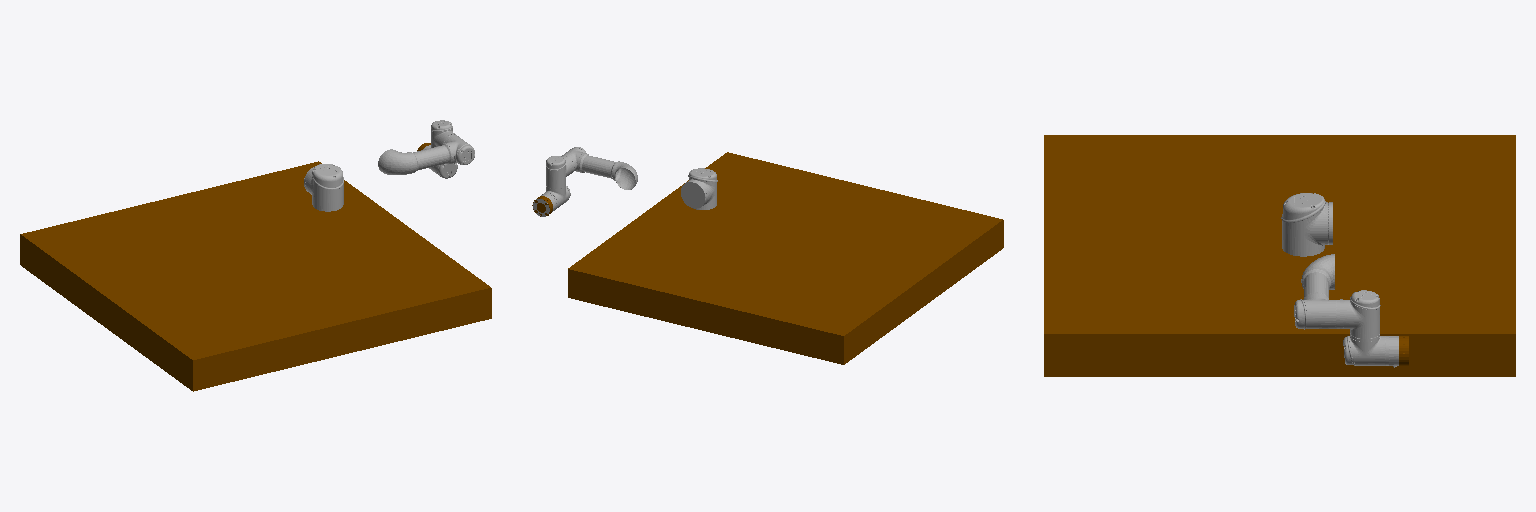
--- Render facts (derived) ---
3 views of the same robot in one strip: view 1: azimuth 30°, elevation 25°; view 2: azimuth 150°, elevation 25°; view 3: azimuth 270°, elevation 25° (orthographic).
Robot: ur_dlidar_robot_gazebo — 23 links, 22 joints (6 revolute, 16 fixed); root link world; default pose: all joints at 0.
Links seen in each view (by area): view 1: plane, forearm_link, shoulder_link; view 2: plane, forearm_link, shoulder_link, wrist_1_link; view 3: plane, shoulder_link, forearm_link, wrist_1_link, wrist_2_link.
Boxes of the visible links, x1=… form: plane: x1=20, y1=161, x2=491, y2=391; forearm_link: x1=378, y1=134, x2=474, y2=174; shoulder_link: x1=304, y1=164, x2=343, y2=211; plane: x1=568, y1=152, x2=1003, y2=364; forearm_link: x1=561, y1=147, x2=637, y2=189; shoulder_link: x1=681, y1=168, x2=717, y2=209; wrist_1_link: x1=546, y1=156, x2=572, y2=190; plane: x1=1044, y1=135, x2=1515, y2=376; shoulder_link: x1=1281, y1=193, x2=1332, y2=256; forearm_link: x1=1294, y1=254, x2=1339, y2=329; wrist_1_link: x1=1340, y1=290, x2=1380, y2=341; wrist_2_link: x1=1343, y1=336, x2=1388, y2=365.
Bounding box of the posed robot: 1.26 × 1 × 0.3099 m (x, y, z).
Meshes: 6 distinct files referenced, 5 mesh visuals loaded (5 OBJ); not drawn: 1 (reference not matched to a file when rendering), 1 (reference in a form the renderer does not follow; not among the files counted above).

robot.urdf — ur_dlidar_robot_gazebo:
<?xml version="1.0" ?>
<!-- =================================================================================== -->
<!-- |    This document was autogenerated by xacro from [local-path]/Codes/ROS/dlidar_ws/src/ur_dlidar/ur_dlidar_gazebo/urdf/ur_dlidar.xacro | -->
<!-- |    EDITING THIS FILE BY HAND IS NOT RECOMMENDED                                 | -->
<!-- =================================================================================== -->
<robot name="ur_dlidar_robot_gazebo">
  <!--
    This is a top-level xacro instantiating the Gazebo-specific version of the
    'ur_robot' macro (ie: 'ur_robot_gazebo') and passing it values for all its
    required arguments.

    This file should be considered the Gazebo-specific variant of the file
    with the same name in the ur_description package. It accepts the same
    arguments, but instead of configuring everything for a real robot, will
    generate a Gazebo-compatible URDF with a ros_control hardware_interface
    attached to it.

    Only use this top-level xacro if you plan on spawning the robot in Gazebo
    'by itself', without any gripper or any other geometry attached.

    If you need to attach an end-effector, camera or need to integrate the
    robot into a larger workcell and want to spawn that as a single entity in
    Gazebo, DO NOT EDIT THIS FILE.

    Instead: create a new top-level xacro, give it a proper name, include the
    required '.xacro' files, instantiate the models (ie: call the macros) and
    connect everything by adding the appropriate joints.
  -->
  <!--
    This is a top-level xacro instantiating the Gazebo-specific version of the
    'ur_robot' macro (ie: 'ur_robot_gazebo') and passing it values for all its
    required arguments.

    This file should be considered the Gazebo-specific variant of the file
    with the same name in the ur_description package. It accepts the same
    arguments, but instead of configuring everything for a real robot, will
    generate a Gazebo-compatible URDF with a ros_control hardware_interface
    attached to it.

    Only use this top-level xacro if you plan on spawning the robot in Gazebo
    'by itself', without any gripper or any other geometry attached.

    If you need to attach an end-effector, camera or need to integrate the
    robot into a larger workcell and want to spawn that as a single entity in
    Gazebo, DO NOT EDIT THIS FILE.

    Instead: create a new top-level xacro, give it a proper name, include the
    required '.xacro' files, instantiate the models (ie: call the macros) and
    connect everything by adding the appropriate joints.
  -->
  <!--
    Main xacro macro definition of the "Gazebo robot" model.

    This wraps the model of the real robot and adds all elements and parameters
    required by Gazebo.

    It also adds the gazebo_ros_control plugin.

    NOTE: this is NOT a URDF. It cannot directly be loaded by consumers
    expecting a flattened '.urdf' file. See the top-level '.xacro' for that
    (but note: that .xacro must still be processed by the xacro command).

    For use in '.launch' files: use one of the 'load_urX.launch' convenience
    launch files.

    NOTE: this Gazebo model makes use of the same set of parameter files as the
    main xacro macro (in ur_description). It is therefor possible to use the
    kinematic calibration exported from a REAL UR robot. Please refer to the
    ur_macro.xacro in ur_description for more information about this.

    Main author of the migration to yaml configs: Ludovic Delval.

    Contributors to previous versions (in no particular order):

     - Felix Messmer
     - Kelsey Hawkins
     - Shaun Edwards
     - Alexander Bubeck
     - Nadia Hammoudeh Garcia
     - G. vd. Hoorn
     - Dave Niewinski
     - Andy Zelenak
     - Miguel Prada
     - Mathias Luedtke
     - Hans-Joachim Krauch
     - Felix Exner
  -->
  <!--
    Base UR robot series xacro macro.

    NOTE: this is NOT a URDF. It cannot directly be loaded by consumers
    expecting a flattened '.urdf' file. See the top-level '.xacro' for that
    (but note: that .xacro must still be processed by the xacro command).

    For use in '.launch' files: use one of the 'load_urX.launch' convenience
    launch files.

    This file models the base kinematic chain of a UR robot, which then gets
    parameterised by various configuration files to convert it into a UR3(e),
    UR5(e), UR10(e) or UR16e.

    NOTE: the default kinematic parameters (ie: link lengths, frame locations,
    offets, etc) do not correspond to any particular robot. They are defaults
    only. There WILL be non-zero offsets between the Forward Kinematics results
    in TF (ie: robot_state_publisher) and the values reported by the Teach
    Pendant.

    For accurate (and robot-specific) transforms, the 'kinematics_parameters_file'
    parameter MUST point to a .yaml file containing the appropriate values for
    the targetted robot.

    If using the UniversalRobots/Universal_Robots_ROS_Driver, follow the steps
    described in the readme of that repository to extract the kinematic
    calibration from the controller and generate the required .yaml file.

    Main author of the migration to yaml configs: Ludovic Delval.

    Contributors to previous versions (in no particular order):

     - Felix Messmer
     - Kelsey Hawkins
     - Wim Meeussen
     - Shaun Edwards
     - Nadia Hammoudeh Garcia
     - Dave Hershberger
     - G. vd. Hoorn
     - Philip Long
     - Dave Coleman
     - Miguel Prada
     - Mathias Luedtke
     - Marcel Schnirring
     - Felix von Drigalski
     - Felix Exner
     - Jimmy Da Silva
     - Ajit Krisshna N L
     - Muhammad Asif Rana
  -->
  <!--
    NOTE: the macro defined in this file is NOT part of the public API of this
          package. Users CANNOT rely on this file being available, or stored in
          this location. Nor can they rely on the existence of the macro.
  -->
  <transmission name="shoulder_pan_trans">
    <type>transmission_interface/SimpleTransmission</type>
    <joint name="shoulder_pan_joint">
      <hardwareInterface>hardware_interface/PositionJointInterface</hardwareInterface>
    </joint>
    <actuator name="shoulder_pan_motor">
      <mechanicalReduction>1</mechanicalReduction>
    </actuator>
  </transmission>
  <transmission name="shoulder_lift_trans">
    <type>transmission_interface/SimpleTransmission</type>
    <joint name="shoulder_lift_joint">
      <hardwareInterface>hardware_interface/PositionJointInterface</hardwareInterface>
    </joint>
    <actuator name="shoulder_lift_motor">
      <mechanicalReduction>1</mechanicalReduction>
    </actuator>
  </transmission>
  <transmission name="elbow_trans">
    <type>transmission_interface/SimpleTransmission</type>
    <joint name="elbow_joint">
      <hardwareInterface>hardware_interface/PositionJointInterface</hardwareInterface>
    </joint>
    <actuator name="elbow_motor">
      <mechanicalReduction>1</mechanicalReduction>
    </actuator>
  </transmission>
  <transmission name="wrist_1_trans">
    <type>transmission_interface/SimpleTransmission</type>
    <joint name="wrist_1_joint">
      <hardwareInterface>hardware_interface/PositionJointInterface</hardwareInterface>
    </joint>
    <actuator name="wrist_1_motor">
      <mechanicalReduction>1</mechanicalReduction>
    </actuator>
  </transmission>
  <transmission name="wrist_2_trans">
    <type>transmission_interface/SimpleTransmission</type>
    <joint name="wrist_2_joint">
      <hardwareInterface>hardware_interface/PositionJointInterface</hardwareInterface>
    </joint>
    <actuator name="wrist_2_motor">
      <mechanicalReduction>1</mechanicalReduction>
    </actuator>
  </transmission>
  <transmission name="wrist_3_trans">
    <type>transmission_interface/SimpleTransmission</type>
    <joint name="wrist_3_joint">
      <hardwareInterface>hardware_interface/PositionJointInterface</hardwareInterface>
    </joint>
    <actuator name="wrist_3_motor">
      <mechanicalReduction>1</mechanicalReduction>
    </actuator>
  </transmission>
  <!-- links: main serial chain -->
  <link name="base_link"/>
  <link name="base_link_inertia">
    <visual>
      <origin rpy="0 0 3.141592653589793" xyz="0 0 0"/>
      <geometry>
        <mesh filename="/meshes/ur3e/visual/base.obj"/>
      </geometry>
      <material name="LightGrey">
        <color rgba="0.7 0.7 0.7 1.0"/>
      </material>
    </visual>
    <collision>
      <origin rpy="0 0 3.141592653589793" xyz="0 0 0"/>
      <geometry>
        <mesh filename="meshes/ur3e/collision/base.stl"/>
      </geometry>
    </collision>
    <inertial>
      <mass value="2.0"/>
      <origin rpy="0 0 0" xyz="0 0 0"/>
      <inertia ixx="0.0030531654454" ixy="0.0" ixz="0.0" iyy="0.0030531654454" iyz="0.0" izz="0.005625"/>
    </inertial>
  </link>
  <link name="shoulder_link">
    <visual>
      <origin rpy="0 0 3.141592653589793" xyz="0 0 0"/>
      <geometry>
        <mesh filename="meshes/ur3e/visual/shoulder.obj"/>
      </geometry>
      <material name="LightGrey">
        <color rgba="0.7 0.7 0.7 1.0"/>
      </material>
    </visual>
    <collision>
      <origin rpy="0 0 3.141592653589793" xyz="0 0 0"/>
      <geometry>
        <mesh filename="meshes/ur3e/collision/shoulder.stl"/>
      </geometry>
    </collision>
    <inertial>
      <mass value="2.0"/>
      <origin rpy="0 0 0" xyz="0 0 0"/>
      <inertia ixx="0.008093163429399999" ixy="0.0" ixz="0.0" iyy="0.008093163429399999" iyz="0.0" izz="0.005625"/>
    </inertial>
  </link>
  <link name="upper_arm_link">
    <visual>
      <origin rpy="1.5707963267948966 0 -1.5707963267948966" xyz="0 0 0.12"/>
      <geometry>
        <mesh filename="meshes/ur3e/visual/upperarm.obj"/>
      </geometry>
      <material name="LightGrey">
        <color rgba="0.7 0.7 0.7 1.0"/>
      </material>
    </visual>
    <collision>
      <origin rpy="1.5707963267948966 0 -1.5707963267948966" xyz="0 0 0.12"/>
      <geometry>
        <mesh filename="meshes/ur3e/collision/upperarm.stl"/>
      </geometry>
    </collision>
    <inertial>
      <mass value="3.42"/>
      <origin rpy="0 1.5707963267948966 0" xyz="-0.121825 0.0 0.12"/>
      <inertia ixx="0.021728483221103233" ixy="0.0" ixz="0.0" iyy="0.021728483221103233" iyz="0.0" izz="0.00961875"/>
    </inertial>
  </link>
  <link name="forearm_link">
    <visual>
      <origin rpy="1.5707963267948966 0 -1.5707963267948966" xyz="0 0 0.027"/>
      <geometry>
        <mesh filename="meshes/ur3e/visual/forearm.obj"/>
      </geometry>
      <material name="LightGrey">
        <color rgba="0.7 0.7 0.7 1.0"/>
      </material>
    </visual>
    <collision>
      <origin rpy="1.5707963267948966 0 -1.5707963267948966" xyz="0 0 0.027"/>
      <geometry>
        <mesh filename="meshes/ur3e/collision/forearm.stl"/>
      </geometry>
    </collision>
    <inertial>
      <mass value="1.26"/>
      <origin rpy="0 1.5707963267948966 0" xyz="-0.1066 0.0 0.027"/>
      <inertia ixx="0.0065445675821719194" ixy="0.0" ixz="0.0" iyy="0.0065445675821719194" iyz="0.0" izz="0.00354375"/>
    </inertial>
  </link>
  <link name="wrist_1_link">
    <visual>
      <!-- TODO: Move this to a parameter -->
      <origin rpy="1.5707963267948966 0 0" xyz="0 0 -0.104"/>
      <geometry>
        <mesh filename="meshes/ur3e/visual/wrist1.obj"/>
      </geometry>
      <material name="LightGrey">
        <color rgba="0.7 0.7 0.7 1.0"/>
      </material>
    </visual>
    <collision>
      <origin rpy="1.5707963267948966 0 0" xyz="0 0 -0.104"/>
      <geometry>
        <mesh filename="meshes/ur3e/collision/wrist1.stl"/>
      </geometry>
    </collision>
    <inertial>
      <mass value="0.8"/>
      <origin rpy="0 0 0" xyz="0 0 0"/>
      <inertia ixx="0.002084999166" ixy="0.0" ixz="0.0" iyy="0.002084999166" iyz="0.0" izz="0.00225"/>
    </inertial>
  </link>
  <link name="wrist_2_link">
    <visual>
      <origin rpy="0 0 0" xyz="0 0 -0.08535"/>
      <geometry>
        <mesh filename="meshes/ur3e/visual/wrist2.obj"/>
      </geometry>
      <material name="LightGrey">
        <color rgba="0.7 0.7 0.7 1.0"/>
      </material>
    </visual>
    <collision>
      <origin rpy="0 0 0" xyz="0 0 -0.08535"/>
      <geometry>
        <mesh filename="meshes/ur3e/collision/wrist2.stl"/>
      </geometry>
    </collision>
    <inertial>
      <mass value="0.8"/>
      <origin rpy="0 0 0" xyz="0 0 0"/>
      <inertia ixx="0.002084999166" ixy="0.0" ixz="0.0" iyy="0.002084999166" iyz="0.0" izz="0.00225"/>
    </inertial>
  </link>
  <link name="wrist_3_link">
    <visual>
      <origin rpy="1.5707963267948966 0 0" xyz="0 0 -0.0921"/>
      <geometry>
        <mesh filename="meshes/ur3e/visual/wrist3.obj"/>
      </geometry>
      <material name="LightGrey">
        <color rgba="0.7 0.7 0.7 1.0"/>
      </material>
    </visual>
    <collision>
      <origin rpy="1.5707963267948966 0 0" xyz="0 0 -0.0921"/>
      <geometry>
        <mesh filename="meshes/ur3e/collision/wrist3.stl"/>
      </geometry>
    </collision>
    <inertial>
      <mass value="0.35"/>
      <origin rpy="0 0 0" xyz="0.0 0.0 -0.02"/>
      <inertia ixx="0.00013626661215999998" ixy="0.0" ixz="0.0" iyy="0.00013626661215999998" iyz="0.0" izz="0.0001792"/>
    </inertial>
  </link>
  <!-- joints: main serial chain -->
  <joint name="base_link-base_link_inertia" type="fixed">
    <parent link="base_link"/>
    <child link="base_link_inertia"/>
    <!-- 'base_link' is REP-103 aligned (so X+ forward), while the internal
           frames of the robot/controller have X+ pointing backwards.
           Use the joint between 'base_link' and 'base_link_inertia' (a dummy
           link/frame) to introduce the necessary rotation over Z (of pi rad).
      -->
    <origin rpy="0 0 3.141592653589793" xyz="0 0 0"/>
  </joint>
  <joint name="shoulder_pan_joint" type="revolute">
    <parent link="base_link_inertia"/>
    <child link="shoulder_link"/>
    <origin rpy="0 0 0" xyz="0 0 0.15185"/>
    <axis xyz="0 0 1"/>
    <limit effort="56.0" lower="-6.283185307179586" upper="6.283185307179586" velocity="3.141592653589793"/>
    <dynamics damping="0" friction="0"/>
  </joint>
  <joint name="shoulder_lift_joint" type="revolute">
    <parent link="shoulder_link"/>
    <child link="upper_arm_link"/>
    <origin rpy="1.570796327 0 0" xyz="0 0 0"/>
    <axis xyz="0 0 1"/>
    <limit effort="56.0" lower="-6.283185307179586" upper="6.283185307179586" velocity="3.141592653589793"/>
    <dynamics damping="0" friction="0"/>
  </joint>
  <joint name="elbow_joint" type="revolute">
    <parent link="upper_arm_link"/>
    <child link="forearm_link"/>
    <origin rpy="0 0 0" xyz="-0.24355 0 0"/>
    <axis xyz="0 0 1"/>
    <limit effort="28.0" lower="-3.141592653589793" upper="3.141592653589793" velocity="3.141592653589793"/>
    <dynamics damping="0" friction="0"/>
  </joint>
  <joint name="wrist_1_joint" type="revolute">
    <parent link="forearm_link"/>
    <child link="wrist_1_link"/>
    <origin rpy="0 0 0" xyz="-0.2132 0 0.13105"/>
    <axis xyz="0 0 1"/>
    <limit effort="12.0" lower="-6.283185307179586" upper="6.283185307179586" velocity="6.283185307179586"/>
    <dynamics damping="0" friction="0"/>
  </joint>
  <joint name="wrist_2_joint" type="revolute">
    <parent link="wrist_1_link"/>
    <child link="wrist_2_link"/>
    <origin rpy="1.570796327 0 0" xyz="0 -0.08535 -1.750557762378351e-11"/>
    <axis xyz="0 0 1"/>
    <limit effort="12.0" lower="-6.283185307179586" upper="6.283185307179586" velocity="6.283185307179586"/>
    <dynamics damping="0" friction="0"/>
  </joint>
  <joint name="wrist_3_joint" type="revolute">
    <parent link="wrist_2_link"/>
    <child link="wrist_3_link"/>
    <origin rpy="1.570796326589793 3.141592653589793 3.141592653589793" xyz="0 0.0921 -1.8890025766262e-11"/>
    <axis xyz="0 0 1"/>
    <limit effort="12.0" lower="-6.283185307179586" upper="6.283185307179586" velocity="6.283185307179586"/>
    <dynamics damping="0" friction="0"/>
  </joint>
  <!-- ROS-Industrial 'base' frame: base_link to UR 'Base' Coordinates transform -->
  <link name="base"/>
  <joint name="base_link-base_fixed_joint" type="fixed">
    <!-- Note the rotation over Z of pi radians: as base_link is REP-103
           aligned (ie: has X+ forward, Y+ left and Z+ up), this is needed
           to correctly align 'base' with the 'Base' coordinate system of
           the UR controller.
      -->
    <origin rpy="0 0 3.141592653589793" xyz="0 0 0"/>
    <parent link="base_link"/>
    <child link="base"/>
  </joint>
  <!-- ROS-Industrial 'flange' frame: attachment point for EEF models -->
  <link name="flange"/>
  <joint name="wrist_3-flange" type="fixed">
    <parent link="wrist_3_link"/>
    <child link="flange"/>
    <origin rpy="0 -1.5707963267948966 -1.5707963267948966" xyz="0 0 0"/>
  </joint>
  <!-- ROS-Industrial 'tool0' frame: all-zeros tool frame -->
  <link name="tool0"/>
  <joint name="flange-tool0" type="fixed">
    <!-- default toolframe: X+ left, Y+ up, Z+ front -->
    <origin rpy="1.5707963267948966 0 1.5707963267948966" xyz="0 0 0"/>
    <parent link="flange"/>
    <child link="tool0"/>
  </joint>
  <!-- Configure self collision properties per link -->
  <gazebo reference="shoulder_link">
    <selfCollide>true</selfCollide>
  </gazebo>
  <gazebo reference="upper_arm_link">
    <selfCollide>true</selfCollide>
  </gazebo>
  <gazebo reference="forearm_link">
    <selfCollide>true</selfCollide>
  </gazebo>
  <gazebo reference="wrist_1_link">
    <selfCollide>true</selfCollide>
  </gazebo>
  <gazebo reference="wrist_3_link">
    <selfCollide>true</selfCollide>
  </gazebo>
  <gazebo reference="wrist_2_link">
    <selfCollide>true</selfCollide>
  </gazebo>
  <gazebo reference="ee_link">
    <selfCollide>true</selfCollide>
  </gazebo>
  <!--
      Inject Gazebo ROS Control plugin, which allows us to use ros_control
      controllers to control the virtual robot hw.
    -->
  <gazebo>
    <plugin filename="libgazebo_ros_control.so" name="ros_control">
      <!--robotNamespace>/</robotNamespace-->
      <!--robotSimType>gazebo_ros_control/DefaultRobotHWSim</robotSimType-->
    </plugin>
  </gazebo>
  <link name="plane">
    <!-- Visual -->
    <visual>
      <geometry>
        <box size="1 1 0.1"/>
      </geometry>
      <origin rpy="0 0 0.0" xyz="0 0.0 0"/>
      <material name="yellow">
        <color rgba="0.5 0.3 0.0 1"/>
      </material>
    </visual>
    <!-- Collision -->
    <collision>
      <geometry>
        <box size="1 1 0.1"/>
      </geometry>
      <origin rpy="0 0 0.0" xyz="0 0.0 0"/>
    </collision>
    <!-- Interial -->
    <inertial>
      <origin xyz="0 0 0"/>
      <mass value="6"/>
      <inertia ixx="1" ixy="0" ixz="0" iyy="1" iyz="0" izz="1"/>
    </inertial>
  </link>
  <!-- Sensor Joint -->
  <joint name="plan_joints" type="fixed">
    <parent link="world"/>
    <child link="plane"/>
    <origin rpy="0 0 0" xyz="0 0 0"/>
  </joint>
  <!--
    Attach the Gazebo model to Gazebo's world frame.

    Note: if you're looking to integrate a UR into a larger scene and need
    to add EEFs or other parts, DO NOT change this file or the 'world' link
    here. Create a NEW xacro instead and decide whether you need to add
    a 'world' link there.
  -->
  <link name="world"/>
  <joint name="world_joint" type="fixed">
    <parent link="plane"/>
    <child link="base_link"/>
    <origin rpy="0 0 0" xyz="0.27 0.05 0.05"/>
  </joint>
  <!-- World link -->
  <link name="dlidar_base"/>
  <joint name="base_joint" type="fixed">
    <parent link="dlidar_base"/>
    <child link="dlidar_base_inertia"/>
  </joint>
  <!-- Base link with inertia-->
  <link name="dlidar_base_inertia">
    <!-- Visual -->
    <visual>
      <geometry>
        <cylinder length="0.02" radius="0.031783"/>
      </geometry>
      <origin rpy="0.0 0.0 0.0" xyz="0.0 0.0 0.0"/>
      <material name="black">
        <color rgba="0.5 0.3 0.0 1"/>
      </material>
    </visual>
    <!-- Collision -->
    <collision>
      <geometry>
        <cylinder length="0.02" radius="0.031783"/>
      </geometry>
    </collision>
    <!-- Interial -->
    <inertial>
      <origin xyz="0 0 0"/>
      <mass value="0.001"/>
      <inertia ixx="1" ixy="0" ixz="0" iyy="1" iyz="0" izz="1"/>
    </inertial>
  </link>
  <!-- Sensor link -->
  <link name="dlidar0">
    <!-- Visual -->
    <visual>
      <geometry>
        <box size="0.001 0.002 0.004"/>
      </geometry>
      <origin rpy="0 0 0.0" xyz="0 0 0"/>
      <material name="yellow">
        <color rgba="0.5 0.3 0.0 1"/>
      </material>
    </visual>
    <!-- Collision -->
    <collision>
      <geometry>
        <box size="0.001 0.002 0.004"/>
      </geometry>
      <origin rpy="0 0 0.0" xyz="0 0 0"/>
    </collision>
    <!-- Interial -->
    <inertial>
      <origin xyz="0 0 0"/>
      <mass value="0.001"/>
      <inertia ixx="1" ixy="0" ixz="0" iyy="1" iyz="0" izz="1"/>
    </inertial>
  </link>
  <!-- Sensor Joint -->
  <joint name="dlidar0_joints" type="fixed">
    <parent link="dlidar_base_inertia"/>
    <child link="dlidar0"/>
    <origin rpy="0 0 0.0" xyz="0.031783 0.0 0"/>
  </joint>
  <!-- Make sure not be merged -->
  <gazebo reference="dlidar0_joints">
    <preserveFixedJoint>true</preserveFixedJoint>
  </gazebo>
  <!-- Sensor plugin -->
  <gazebo reference="dlidar0">
    <sensor name="dlidar0_ray" type="ray">
      <pose>0 0 0 0 0 0</pose>
      <visualize>true</visualize>
      <!-- 是否可视化射线 -->
      <update_rate>10</update_rate>
      <!-- 测距频率 -->
      <ray>
        <scan>
          <horizontal>
            <!-- 水平方向 -->
            <samples>10</samples>
            <resolution>1</resolution>
            <min_angle>-0.2625</min_angle>
            <!-- 角度范围最小值 -15度 -->
            <max_angle>0.2625</max_angle>
            <!-- 角度范围最大值 15度 -->
          </horizontal>
          <vertical>
            <!-- 垂直方向 参数同上-->
            <samples>10</samples>
            <resolution>1</resolution>
            <min_angle>-0.2625</min_angle>
            <max_angle>0.2625</max_angle>
          </vertical>
        </scan>
        <range>
          <min>0.02</min>
          <!-- 最小测距范围-->
          <max>1.0</max>
          <!-- 最大测距范围-->
          <resolution>0.02</resolution>
        </range>
      </ray>
      <plugin filename="libgazebo_ros_range.so" name="gazebo_ros_range0">
        <gaussianNoise>0.001</gaussianNoise>
        <!-- 添加传感器噪声 -->
        <alwaysOn>true</alwaysOn>
        <updateRate>10</updateRate>
        <topicName>dlidar_data</topicName>
        <!-- 发布数据的 Topic 名称 -->
        <frameName>dlidar0</frameName>
        <!-- 对应的frame 名字 -->
        <radiation>ultrasound</radiation>
        <fov>0.5</fov>
      </plugin>
    </sensor>
  </gazebo>
  <!-- Sensor link -->
  <link name="dlidar1">
    <!-- Visual -->
    <visual>
      <geometry>
        <box size="0.001 0.002 0.004"/>
      </geometry>
      <origin rpy="0 0 0.6300000000000001" xyz="0 0 0"/>
      <material name="yellow">
        <color rgba="0.5 0.3 0.0 1"/>
      </material>
    </visual>
    <!-- Collision -->
    <collision>
      <geometry>
        <box size="0.001 0.002 0.004"/>
      </geometry>
      <origin rpy="0 0 0.6300000000000001" xyz="0 0 0"/>
    </collision>
    <!-- Interial -->
    <inertial>
      <origin xyz="0 0 0"/>
      <mass value="0.001"/>
      <inertia ixx="1" ixy="0" ixz="0" iyy="1" iyz="0" izz="1"/>
    </inertial>
  </link>
  <!-- Sensor Joint -->
  <joint name="dlidar1_joints" type="fixed">
    <parent link="dlidar_base_inertia"/>
    <child link="dlidar1"/>
    <origin rpy="0 0 0.6300000000000001" xyz="0.025681538296685118 0.018724787841679153 0"/>
  </joint>
  <!-- Make sure not be merged -->
  <gazebo reference="dlidar1_joints">
    <preserveFixedJoint>true</preserveFixedJoint>
  </gazebo>
  <!-- Sensor plugin -->
  <gazebo reference="dlidar1">
    <sensor name="dlidar1_ray" type="ray">
      <pose>0 0 0 0 0 0</pose>
      <visualize>true</visualize>
      <!-- 是否可视化射线 -->
      <update_rate>10</update_rate>
      <!-- 测距频率 -->
      <ray>
        <scan>
          <horizontal>
            <!-- 水平方向 -->
            <samples>10</samples>
            <resolution>1</resolution>
            <min_angle>-0.2625</min_angle>
            <!-- 角度范围最小值 -15度 -->
            <max_angle>0.2625</max_angle>
            <!-- 角度范围最大值 15度 -->
          </horizontal>
          <vertical>
            <!-- 垂直方向 参数同上-->
            <samples>10</samples>
            <resolution>1</resolution>
            <min_angle>-0.2625</min_angle>
            <max_angle>0.2625</max_angle>
          </vertical>
        </scan>
        <range>
          <min>0.02</min>
          <!-- 最小测距范围-->
          <max>1.0</max>
          <!-- 最大测距范围-->
          <resolution>0.02</resolution>
        </range>
      </ray>
      <plugin filename="libgazebo_ros_range.so" name="gazebo_ros_range1">
        <gaussianNoise>0.001</gaussianNoise>
        <!-- 添加传感器噪声 -->
        <alwaysOn>true</alwaysOn>
        <updateRate>10</updateRate>
        <topicName>dlidar_data</topicName>
        <!-- 发布数据的 Topic 名称 -->
        <frameName>dlidar1</frameName>
        <!-- 对应的frame 名字 -->
        <radiation>ultrasound</radiation>
        <fov>0.5</fov>
      </plugin>
    </sensor>
  </gazebo>
  <!-- Sensor link -->
  <link name="dlidar2">
    <!-- Visual -->
    <visual>
      <geometry>
        <box size="0.001 0.002 0.004"/>
      </geometry>
      <origin rpy="0 0 1.2600000000000002" xyz="0 0 0"/>
      <material name="yellow">
        <color rgba="0.5 0.3 0.0 1"/>
      </material>
    </visual>
    <!-- Collision -->
    <collision>
      <geometry>
        <box size="0.001 0.002 0.004"/>
      </geometry>
      <origin rpy="0 0 1.2600000000000002" xyz="0 0 0"/>
    </collision>
    <!-- Interial -->
    <inertial>
      <origin xyz="0 0 0"/>
      <mass value="0.001"/>
      <inertia ixx="1" ixy="0" ixz="0" iyy="1" iyz="0" izz="1"/>
    </inertial>
  </link>
  <!-- Sensor Joint -->
  <joint name="dlidar2_joints" type="fixed">
    <parent link="dlidar_base_inertia"/>
    <child link="dlidar2"/>
    <origin rpy="0 0 1.2600000000000002" xyz="0.009719778798987163 0.030260287326771364 0"/>
  </joint>
  <!-- Make sure not be merged -->
  <gazebo reference="dlidar2_joints">
    <preserveFixedJoint>true</preserveFixedJoint>
  </gazebo>
  <!-- Sensor plugin -->
  <gazebo reference="dlidar2">
    <sensor name="dlidar2_ray" type="ray">
      <pose>0 0 0 0 0 0</pose>
      <visualize>true</visualize>
      <!-- 是否可视化射线 -->
      <update_rate>10</update_rate>
      <!-- 测距频率 -->
      <ray>
        <scan>
          <horizontal>
            <!-- 水平方向 -->
            <samples>10</samples>
            <resolution>1</resolution>
            <min_angle>-0.2625</min_angle>
            <!-- 角度范围最小值 -15度 -->
            <max_angle>0.2625</max_angle>
            <!-- 角度范围最大值 15度 -->
          </horizontal>
          <vertical>
            <!-- 垂直方向 参数同上-->
            <samples>10</samples>
            <resolution>1</resolution>
            <min_angle>-0.2625</min_angle>
            <max_angle>0.2625</max_angle>
          </vertical>
        </scan>
        <range>
          <min>0.02</min>
          <!-- 最小测距范围-->
          <max>1.0</max>
          <!-- 最大测距范围-->
          <resolution>0.02</resolution>
        </range>
      </ray>
      <plugin filename="libgazebo_ros_range.so" name="gazebo_ros_range2">
        <gaussianNoise>0.001</gaussianNoise>
        <!-- 添加传感器噪声 -->
        <alwaysOn>true</alwaysOn>
        <updateRate>10</updateRate>
        <topicName>dlidar_data</topicName>
        <!-- 发布数据的 Topic 名称 -->
        <frameName>dlidar2</frameName>
        <!-- 对应的frame 名字 -->
        <radiation>ultrasound</radiation>
        <fov>0.5</fov>
      </plugin>
    </sensor>
  </gazebo>
  <!-- Sensor link -->
  <link name="dlidar3">
    <!-- Visual -->
    <visual>
      <geometry>
        <box size="0.001 0.002 0.004"/>
      </geometry>
      <origin rpy="0 0 1.8900000000000003" xyz="0 0 0"/>
      <material name="yellow">
        <color rgba="0.5 0.3 0.0 1"/>
      </material>
    </visual>
    <!-- Collision -->
    <collision>
      <geometry>
        <box size="0.001 0.002 0.004"/>
      </geometry>
      <origin rpy="0 0 1.8900000000000003" xyz="0 0 0"/>
    </collision>
    <!-- Interial -->
    <inertial>
      <origin xyz="0 0 0"/>
      <mass value="0.001"/>
      <inertia ixx="1" ixy="0" ixz="0" iyy="1" iyz="0" izz="1"/>
    </inertial>
  </link>
  <!-- Sensor Joint -->
  <joint name="dlidar3_joints" type="fixed">
    <parent link="dlidar_base_inertia"/>
    <child link="dlidar3"/>
    <origin rpy="0 0 1.8900000000000003" xyz="-0.009973841008103368 0.030177501297242545 0"/>
  </joint>
  <!-- Make sure not be merged -->
  <gazebo reference="dlidar3_joints">
    <preserveFixedJoint>true</preserveFixedJoint>
  </gazebo>
  <!-- Sensor plugin -->
  <gazebo reference="dlidar3">
    <sensor name="dlidar3_ray" type="ray">
      <pose>0 0 0 0 0 0</pose>
      <visualize>true</visualize>
      <!-- 是否可视化射线 -->
      <update_rate>10</update_rate>
      <!-- 测距频率 -->
      <ray>
        <scan>
          <horizontal>
            <!-- 水平方向 -->
            <samples>10</samples>
            <resolution>1</resolution>
            <min_angle>-0.2625</min_angle>
            <!-- 角度范围最小值 -15度 -->
            <max_angle>0.2625</max_angle>
            <!-- 角度范围最大值 15度 -->
          </horizontal>
          <vertical>
            <!-- 垂直方向 参数同上-->
            <samples>10</samples>
            <resolution>1</resolution>
            <min_angle>-0.2625</min_angle>
            <max_angle>0.2625</max_angle>
          </vertical>
        </scan>
        <range>
          <min>0.02</min>
          <!-- 最小测距范围-->
          <max>1.0</max>
          <!-- 最大测距范围-->
          <resolution>0.02</resolution>
        </range>
      </ray>
      <plugin filename="libgazebo_ros_range.so" name="gazebo_ros_range3">
        <gaussianNoise>0.001</gaussianNoise>
        <!-- 添加传感器噪声 -->
        <alwaysOn>true</alwaysOn>
        <updateRate>10</updateRate>
        <topicName>dlidar_data</topicName>
        <!-- 发布数据的 Topic 名称 -->
        <frameName>dlidar3</frameName>
        <!-- 对应的frame 名字 -->
        <radiation>ultrasound</radiation>
        <fov>0.5</fov>
      </plugin>
    </sensor>
  </gazebo>
  <!-- Sensor link -->
  <link name="dlidar4">
    <!-- Visual -->
    <visual>
      <geometry>
        <box size="0.001 0.002 0.004"/>
      </geometry>
      <origin rpy="0 0 2.5200000000000005" xyz="0 0 0"/>
      <material name="yellow">
        <color rgba="0.5 0.3 0.0 1"/>
      </material>
    </visual>
    <!-- Collision -->
    <collision>
      <geometry>
        <box size="0.001 0.002 0.004"/>
      </geometry>
      <origin rpy="0 0 2.5200000000000005" xyz="0 0 0"/>
    </collision>
    <!-- Interial -->
    <inertial>
      <origin xyz="0 0 0"/>
      <mass value="0.001"/>
      <inertia ixx="1" ixy="0" ixz="0" iyy="1" iyz="0" izz="1"/>
    </inertial>
  </link>
  <!-- Sensor Joint -->
  <joint name="dlidar4_joints" type="fixed">
    <parent link="dlidar_base_inertia"/>
    <child link="dlidar4"/>
    <origin rpy="0 0 2.5200000000000005" xyz="-0.02583805459514581 0.018508215033823883 0"/>
  </joint>
  <!-- Make sure not be merged -->
  <gazebo reference="dlidar4_joints">
    <preserveFixedJoint>true</preserveFixedJoint>
  </gazebo>
  <!-- Sensor plugin -->
  <gazebo reference="dlidar4">
    <sensor name="dlidar4_ray" type="ray">
      <pose>0 0 0 0 0 0</pose>
      <visualize>true</visualize>
      <!-- 是否可视化射线 -->
      <update_rate>10</update_rate>
      <!-- 测距频率 -->
      <ray>
        <scan>
          <horizontal>
            <!-- 水平方向 -->
            <samples>10</samples>
            <resolution>1</resolution>
            <min_angle>-0.2625</min_angle>
            <!-- 角度范围最小值 -15度 -->
            <max_angle>0.2625</max_angle>
            <!-- 角度范围最大值 15度 -->
          </horizontal>
          <vertical>
            <!-- 垂直方向 参数同上-->
            <samples>10</samples>
            <resolution>1</resolution>
            <min_angle>-0.2625</min_angle>
            <max_angle>0.2625</max_angle>
          </vertical>
        </scan>
        <range>
          <min>0.02</min>
          <!-- 最小测距范围-->
          <max>1.0</max>
          <!-- 最大测距范围-->
          <resolution>0.02</resolution>
        </range>
      </ray>
      <plugin filename="libgazebo_ros_range.so" name="gazebo_ros_range4">
        <gaussianNoise>0.001</gaussianNoise>
        <!-- 添加传感器噪声 -->
        <alwaysOn>true</alwaysOn>
        <updateRate>10</updateRate>
        <topicName>dlidar_data</topicName>
        <!-- 发布数据的 Topic 名称 -->
        <frameName>dlidar4</frameName>
        <!-- 对应的frame 名字 -->
        <radiation>ultrasound</radiation>
        <fov>0.5</fov>
      </plugin>
    </sensor>
  </gazebo>
  <!-- Sensor link -->
  <link name="dlidar5">
    <!-- Visual -->
    <visual>
      <geometry>
        <box size="0.001 0.002 0.004"/>
      </geometry>
      <origin rpy="0 0 3.1500000000000004" xyz="0 0 0"/>
      <material name="yellow">
        <color rgba="0.5 0.3 0.0 1"/>
      </material>
    </visual>
    <!-- Collision -->
    <collision>
      <geometry>
        <box size="0.001 0.002 0.004"/>
      </geometry>
      <origin rpy="0 0 3.1500000000000004" xyz="0 0 0"/>
    </collision>
    <!-- Interial -->
    <inertial>
      <origin xyz="0 0 0"/>
      <mass value="0.001"/>
      <inertia ixx="1" ixy="0" ixz="0" iyy="1" iyz="0" izz="1"/>
    </inertial>
  </link>
  <!-- Sensor Joint -->
  <joint name="dlidar5_joints" type="fixed">
    <parent link="dlidar_base_inertia"/>
    <child link="dlidar5"/>
    <origin rpy="0 0 3.1500000000000004" xyz="-0.03178187674019466 -0.00026720754307009865 0"/>
  </joint>
  <!-- Make sure not be merged -->
  <gazebo reference="dlidar5_joints">
    <preserveFixedJoint>true</preserveFixedJoint>
  </gazebo>
  <!-- Sensor plugin -->
  <gazebo reference="dlidar5">
    <sensor name="dlidar5_ray" type="ray">
      <pose>0 0 0 0 0 0</pose>
      <visualize>true</visualize>
      <!-- 是否可视化射线 -->
      <update_rate>10</update_rate>
      <!-- 测距频率 -->
      <ray>
        <scan>
          <horizontal>
            <!-- 水平方向 -->
            <samples>10</samples>
            <resolution>1</resolution>
            <min_angle>-0.2625</min_angle>
            <!-- 角度范围最小值 -15度 -->
            <max_angle>0.2625</max_angle>
            <!-- 角度范围最大值 15度 -->
          </horizontal>
          <vertical>
            <!-- 垂直方向 参数同上-->
            <samples>10</samples>
            <resolution>1</resolution>
            <min_angle>-0.2625</min_angle>
            <max_angle>0.2625</max_angle>
          </vertical>
        </scan>
        <range>
          <min>0.02</min>
          <!-- 最小测距范围-->
          <max>1.0</max>
          <!-- 最大测距范围-->
          <resolution>0.02</resolution>
        </range>
      </ray>
      <plugin filename="libgazebo_ros_range.so" name="gazebo_ros_range5">
        <gaussianNoise>0.001</gaussianNoise>
        <!-- 添加传感器噪声 -->
        <alwaysOn>true</alwaysOn>
        <updateRate>10</updateRate>
        <topicName>dlidar_data</topicName>
        <!-- 发布数据的 Topic 名称 -->
        <frameName>dlidar5</frameName>
        <!-- 对应的frame 名字 -->
        <radiation>ultrasound</radiation>
        <fov>0.5</fov>
      </plugin>
    </sensor>
  </gazebo>
  <!-- Sensor link -->
  <link name="dlidar6">
    <!-- Visual -->
    <visual>
      <geometry>
        <box size="0.001 0.002 0.004"/>
      </geometry>
      <origin rpy="0 0 3.7800000000000007" xyz="0 0 0"/>
      <material name="yellow">
        <color rgba="0.5 0.3 0.0 1"/>
      </material>
    </visual>
    <!-- Collision -->
    <collision>
      <geometry>
        <box size="0.001 0.002 0.004"/>
      </geometry>
      <origin rpy="0 0 3.7800000000000007" xyz="0 0 0"/>
    </collision>
    <!-- Interial -->
    <inertial>
      <origin xyz="0 0 0"/>
      <mass value="0.001"/>
      <inertia ixx="1" ixy="0" ixz="0" iyy="1" iyz="0" izz="1"/>
    </inertial>
  </link>
  <!-- Sensor Joint -->
  <joint name="dlidar6_joints" type="fixed">
    <parent link="dlidar_base_inertia"/>
    <child link="dlidar6"/>
    <origin rpy="0 0 3.7800000000000007" xyz="-0.025523206748581037 -0.01894003712428218 0"/>
  </joint>
  <!-- Make sure not be merged -->
  <gazebo reference="dlidar6_joints">
    <preserveFixedJoint>true</preserveFixedJoint>
  </gazebo>
  <!-- Sensor plugin -->
  <gazebo reference="dlidar6">
    <sensor name="dlidar6_ray" type="ray">
      <pose>0 0 0 0 0 0</pose>
      <visualize>true</visualize>
      <!-- 是否可视化射线 -->
      <update_rate>10</update_rate>
      <!-- 测距频率 -->
      <ray>
        <scan>
          <horizontal>
            <!-- 水平方向 -->
            <samples>10</samples>
            <resolution>1</resolution>
            <min_angle>-0.2625</min_angle>
            <!-- 角度范围最小值 -15度 -->
            <max_angle>0.2625</max_angle>
            <!-- 角度范围最大值 15度 -->
          </horizontal>
          <vertical>
            <!-- 垂直方向 参数同上-->
            <samples>10</samples>
            <resolution>1</resolution>
            <min_angle>-0.2625</min_angle>
            <max_angle>0.2625</max_angle>
          </vertical>
        </scan>
        <range>
          <min>0.02</min>
          <!-- 最小测距范围-->
          <max>1.0</max>
          <!-- 最大测距范围-->
          <resolution>0.02</resolution>
        </range>
      </ray>
      <plugin filename="libgazebo_ros_range.so" name="gazebo_ros_range6">
        <gaussianNoise>0.001</gaussianNoise>
        <!-- 添加传感器噪声 -->
        <alwaysOn>true</alwaysOn>
        <updateRate>10</updateRate>
        <topicName>dlidar_data</topicName>
        <!-- 发布数据的 Topic 名称 -->
        <frameName>dlidar6</frameName>
        <!-- 对应的frame 名字 -->
        <radiation>ultrasound</radiation>
        <fov>0.5</fov>
      </plugin>
    </sensor>
  </gazebo>
  <!-- Sensor link -->
  <link name="dlidar7">
    <!-- Visual -->
    <visual>
      <geometry>
        <box size="0.001 0.002 0.004"/>
      </geometry>
      <origin rpy="0 0 4.410000000000001" xyz="0 0 0"/>
      <material name="yellow">
        <color rgba="0.5 0.3 0.0 1"/>
      </material>
    </visual>
    <!-- Collision -->
    <collision>
      <geometry>
        <box size="0.001 0.002 0.004"/>
      </geometry>
      <origin rpy="0 0 4.410000000000001" xyz="0 0 0"/>
    </collision>
    <!-- Interial -->
    <inertial>
      <origin xyz="0 0 0"/>
      <mass value="0.001"/>
      <inertia ixx="1" ixy="0" ixz="0" iyy="1" iyz="0" izz="1"/>
    </inertial>
  </link>
  <!-- Sensor Joint -->
  <joint name="dlidar7_joints" type="fixed">
    <parent link="dlidar_base_inertia"/>
    <child link="dlidar7"/>
    <origin rpy="0 0 4.410000000000001" xyz="-0.009465029566189002 -0.030340934466676663 0"/>
  </joint>
  <!-- Make sure not be merged -->
  <gazebo reference="dlidar7_joints">
    <preserveFixedJoint>true</preserveFixedJoint>
  </gazebo>
  <!-- Sensor plugin -->
  <gazebo reference="dlidar7">
    <sensor name="dlidar7_ray" type="ray">
      <pose>0 0 0 0 0 0</pose>
      <visualize>true</visualize>
      <!-- 是否可视化射线 -->
      <update_rate>10</update_rate>
      <!-- 测距频率 -->
      <ray>
        <scan>
          <horizontal>
            <!-- 水平方向 -->
            <samples>10</samples>
            <resolution>1</resolution>
            <min_angle>-0.2625</min_angle>
            <!-- 角度范围最小值 -15度 -->
            <max_angle>0.2625</max_angle>
            <!-- 角度范围最大值 15度 -->
          </horizontal>
          <vertical>
            <!-- 垂直方向 参数同上-->
            <samples>10</samples>
            <resolution>1</resolution>
            <min_angle>-0.2625</min_angle>
            <max_angle>0.2625</max_angle>
          </vertical>
        </scan>
        <range>
          <min>0.02</min>
          <!-- 最小测距范围-->
          <max>1.0</max>
          <!-- 最大测距范围-->
          <resolution>0.02</resolution>
        </range>
      </ray>
      <plugin filename="libgazebo_ros_range.so" name="gazebo_ros_range7">
        <gaussianNoise>0.001</gaussianNoise>
        <!-- 添加传感器噪声 -->
        <alwaysOn>true</alwaysOn>
        <updateRate>10</updateRate>
        <topicName>dlidar_data</topicName>
        <!-- 发布数据的 Topic 名称 -->
        <frameName>dlidar7</frameName>
        <!-- 对应的frame 名字 -->
        <radiation>ultrasound</radiation>
        <fov>0.5</fov>
      </plugin>
    </sensor>
  </gazebo>
  <joint name="ur3e_dlidar_joint" type="fixed">
    <parent link="tool0"/>
    <child link="dlidar_base"/>
    <origin rpy="3.141592653589793 0 -2.76" xyz="0 0 -0.01"/>
  </joint>
</robot>
